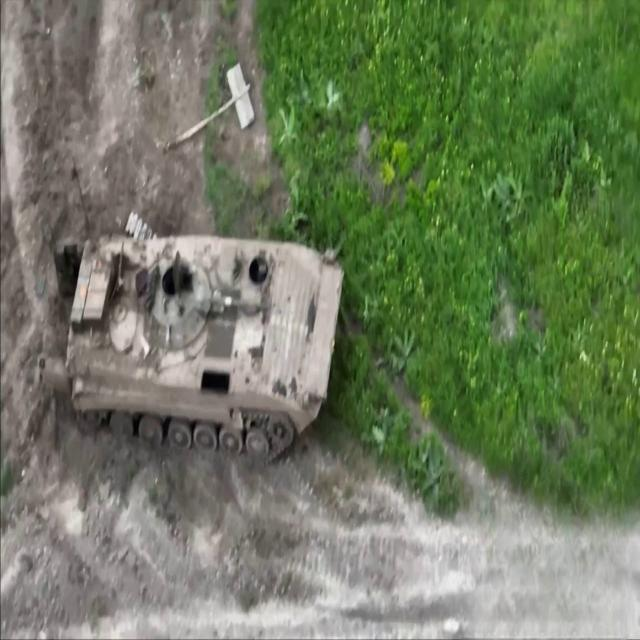AIFV: (56, 190, 346, 464)
